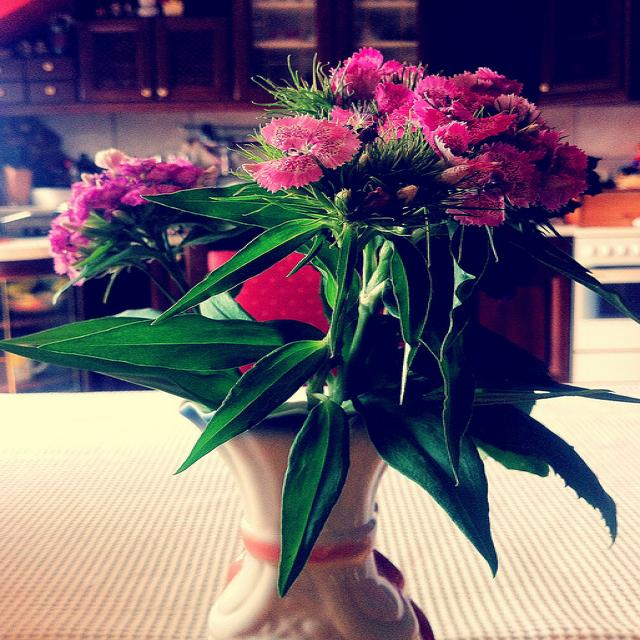dining table: (2, 378, 640, 632), (0, 234, 59, 262)
